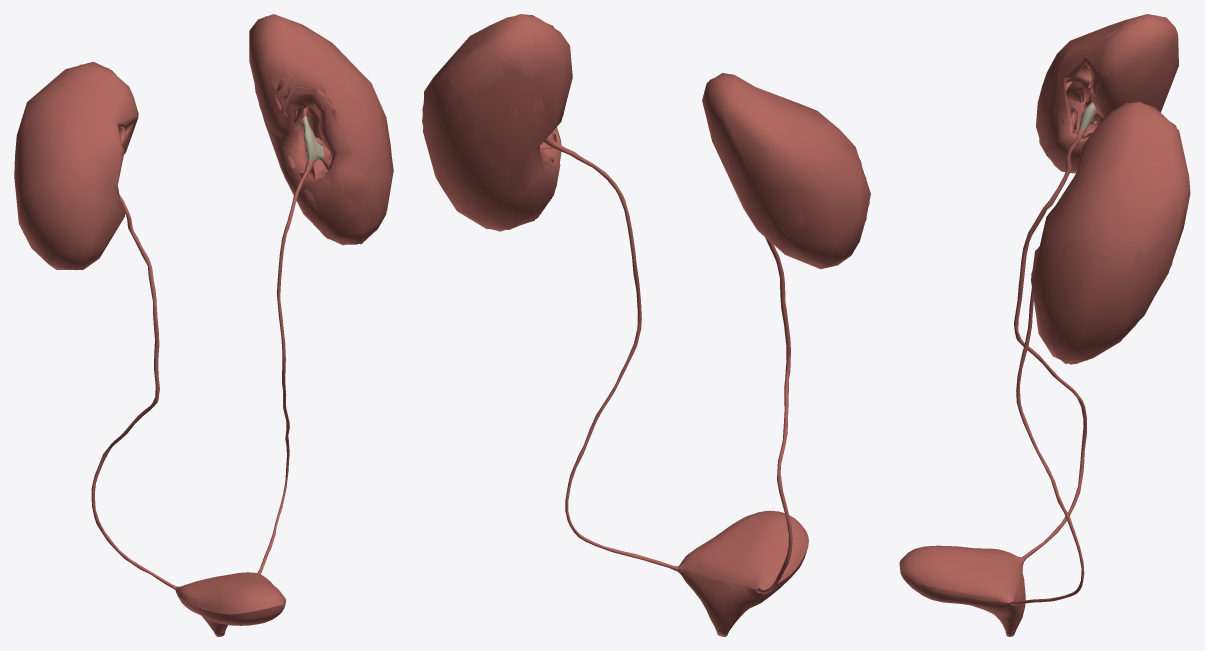
Rendered from adult_female.urinary.LOD3.glb.
The picture shows the model from 3 angles, left to right: view 1: azimuth 30°, elevation 25°; view 2: azimuth 150°, elevation 25°; view 3: azimuth 270°, elevation 25°; orthographic projection. The views are drawn at different scales.
Visible parts, largest first — view 1: ADULT.FEMALE.URINARY.KIDNEY_CAPSULE.R, ADULT.FEMALE.URINARY.KIDNEY_CAPSULE.L, ADULT.FEMALE.URINARY.FUNDUS_OF_URINARY_BLADDER_DOME, ADULT.FEMALE.URINARY.OUTER_CORTEX_OF_KIDNEY.L, ADULT.FEMALE.URINARY.URETER.R, ADULT.FEMALE.URINARY.URETER.L, ADULT.FEMALE.URINARY.FUNDUS_OF_URINARY_BLADDER_BASE, ADULT.FEMALE.URINARY.HILUM_OF_KIDNEY.L, ADULT.FEMALE.URINARY.OUTER_CORTEX_OF_KIDNEY.R, ADULT.FEMALE.URINARY.RENAL_PELVIS.L; view 2: ADULT.FEMALE.URINARY.KIDNEY_CAPSULE.R, ADULT.FEMALE.URINARY.KIDNEY_CAPSULE.L, ADULT.FEMALE.URINARY.FUNDUS_OF_URINARY_BLADDER_DOME, ADULT.FEMALE.URINARY.OUTER_CORTEX_OF_KIDNEY.L, ADULT.FEMALE.URINARY.FUNDUS_OF_URINARY_BLADDER_BASE, ADULT.FEMALE.URINARY.URETER.L, ADULT.FEMALE.URINARY.URETER.R; view 3: ADULT.FEMALE.URINARY.KIDNEY_CAPSULE.L, ADULT.FEMALE.URINARY.KIDNEY_CAPSULE.R, ADULT.FEMALE.URINARY.OUTER_CORTEX_OF_KIDNEY.L, ADULT.FEMALE.URINARY.FUNDUS_OF_URINARY_BLADDER_DOME, ADULT.FEMALE.URINARY.URETER.R, ADULT.FEMALE.URINARY.FUNDUS_OF_URINARY_BLADDER_BASE, ADULT.FEMALE.URINARY.URETER.L, ADULT.FEMALE.URINARY.HILUM_OF_KIDNEY.R.
Part boxes in pixels (left/top/right/bottom): ADULT.FEMALE.URINARY.KIDNEY_CAPSULE.R: left=14, top=61, right=138, bottom=270; ADULT.FEMALE.URINARY.KIDNEY_CAPSULE.L: left=249, top=14, right=393, bottom=244; ADULT.FEMALE.URINARY.FUNDUS_OF_URINARY_BLADDER_DOME: left=175, top=572, right=286, bottom=614; ADULT.FEMALE.URINARY.OUTER_CORTEX_OF_KIDNEY.L: left=254, top=16, right=391, bottom=245; ADULT.FEMALE.URINARY.URETER.R: left=91, top=195, right=176, bottom=589; ADULT.FEMALE.URINARY.URETER.L: left=257, top=160, right=313, bottom=574; ADULT.FEMALE.URINARY.FUNDUS_OF_URINARY_BLADDER_BASE: left=176, top=593, right=285, bottom=632; ADULT.FEMALE.URINARY.HILUM_OF_KIDNEY.L: left=275, top=76, right=332, bottom=179; ADULT.FEMALE.URINARY.OUTER_CORTEX_OF_KIDNEY.R: left=36, top=68, right=133, bottom=269; ADULT.FEMALE.URINARY.RENAL_PELVIS.L: left=302, top=116, right=323, bottom=162; ADULT.FEMALE.URINARY.KIDNEY_CAPSULE.R: left=702, top=73, right=870, bottom=269; ADULT.FEMALE.URINARY.KIDNEY_CAPSULE.L: left=422, top=14, right=572, bottom=229; ADULT.FEMALE.URINARY.FUNDUS_OF_URINARY_BLADDER_DOME: left=677, top=510, right=808, bottom=590; ADULT.FEMALE.URINARY.OUTER_CORTEX_OF_KIDNEY.L: left=422, top=32, right=564, bottom=231; ADULT.FEMALE.URINARY.FUNDUS_OF_URINARY_BLADDER_BASE: left=677, top=548, right=807, bottom=632; ADULT.FEMALE.URINARY.URETER.L: left=544, top=135, right=678, bottom=571; ADULT.FEMALE.URINARY.URETER.R: left=756, top=237, right=792, bottom=593; ADULT.FEMALE.URINARY.KIDNEY_CAPSULE.L: left=1031, top=101, right=1190, bottom=364; ADULT.FEMALE.URINARY.KIDNEY_CAPSULE.R: left=1036, top=14, right=1178, bottom=173; ADULT.FEMALE.URINARY.OUTER_CORTEX_OF_KIDNEY.L: left=1031, top=114, right=1189, bottom=363; ADULT.FEMALE.URINARY.FUNDUS_OF_URINARY_BLADDER_DOME: left=899, top=545, right=1024, bottom=602; ADULT.FEMALE.URINARY.URETER.R: left=1014, top=128, right=1086, bottom=561; ADULT.FEMALE.URINARY.FUNDUS_OF_URINARY_BLADDER_BASE: left=900, top=561, right=1025, bottom=631; ADULT.FEMALE.URINARY.URETER.L: left=1010, top=288, right=1084, bottom=605; ADULT.FEMALE.URINARY.HILUM_OF_KIDNEY.R: left=1059, top=64, right=1101, bottom=136.
Bounding box in the file's own units: 0.2219 × 0.3197 × 0.1422.
